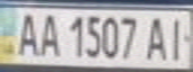0: (100, 12, 121, 60)
1: (63, 11, 84, 58)
5: (81, 11, 103, 60)
7: (118, 12, 142, 61)
A: (142, 12, 172, 62), (12, 9, 42, 57), (33, 10, 63, 57)
I: (163, 12, 193, 62)
